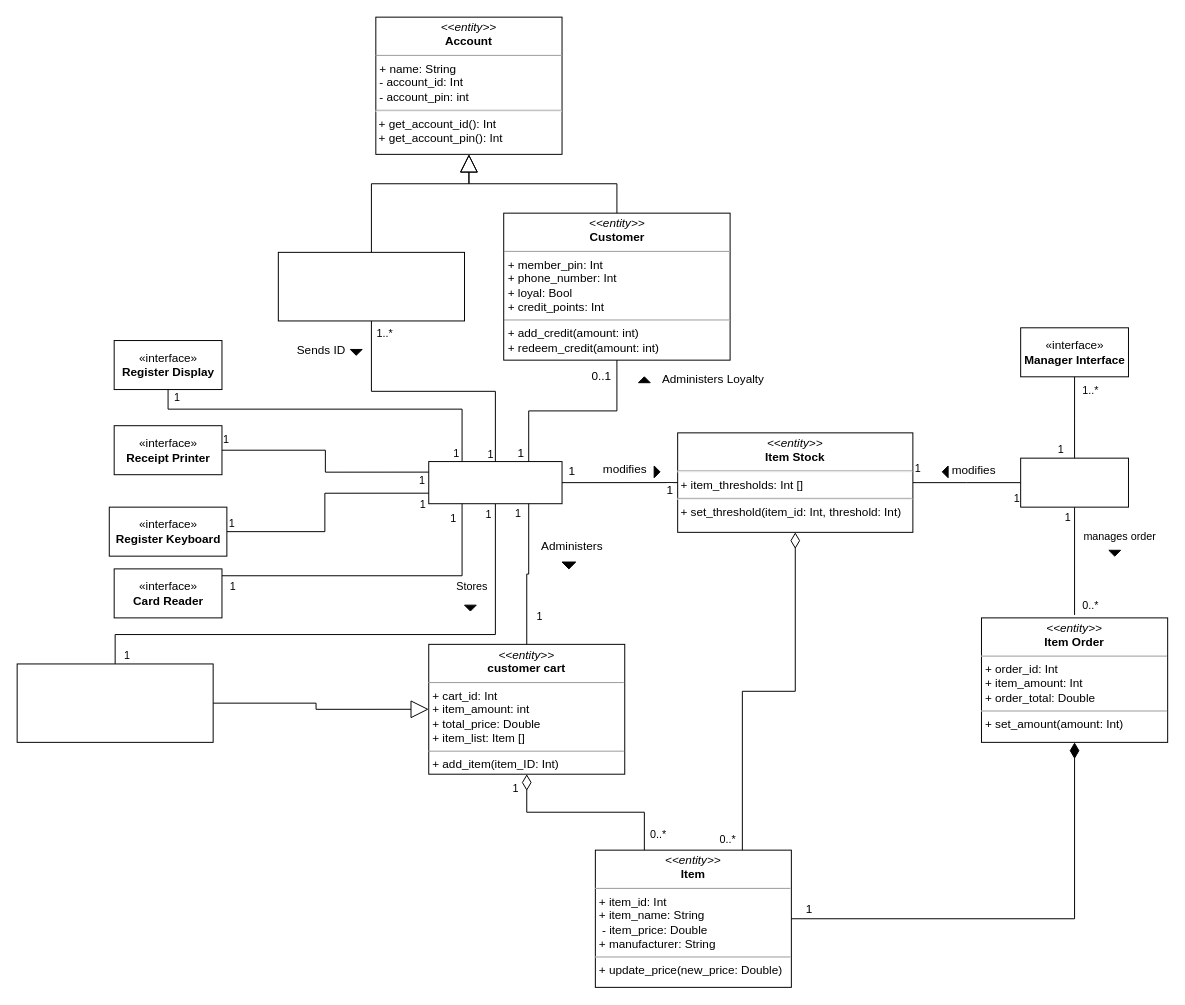
Image size: 1185x1005. Some labels were removed from this diagram. The shapes that lost their labels are listed below. From the top down, each one's centre as x and y in pixels, then its label:
the point at 371,286: <<entity>> Employee + manager: Bool
the point at 495,482: <<appplication logic>> Checkout Control
the point at 1074,482: «application logic» Inventory Control
the point at 114,702: <<entity>> Purchase Info + customer_name: String + bank_info: Int
